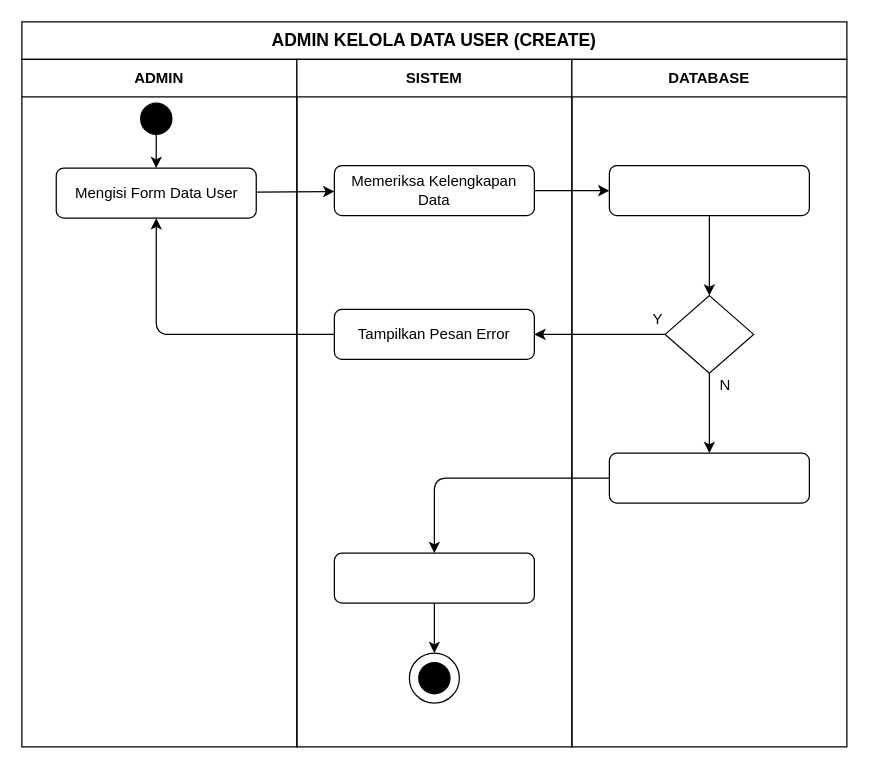
This 869x769 diagram has some shape labels left out. Here are the shapes that lost their labels. From the top down, the centre of each, then its label:
At [708,190]: "Cek NIM/NIP di Database".
At [709,333]: "NIM/NIP Sudah Ada?".
At [708,477]: "Simpan Data User Baru".
At [433,577]: "Tampilkan Pesan Sukses".
